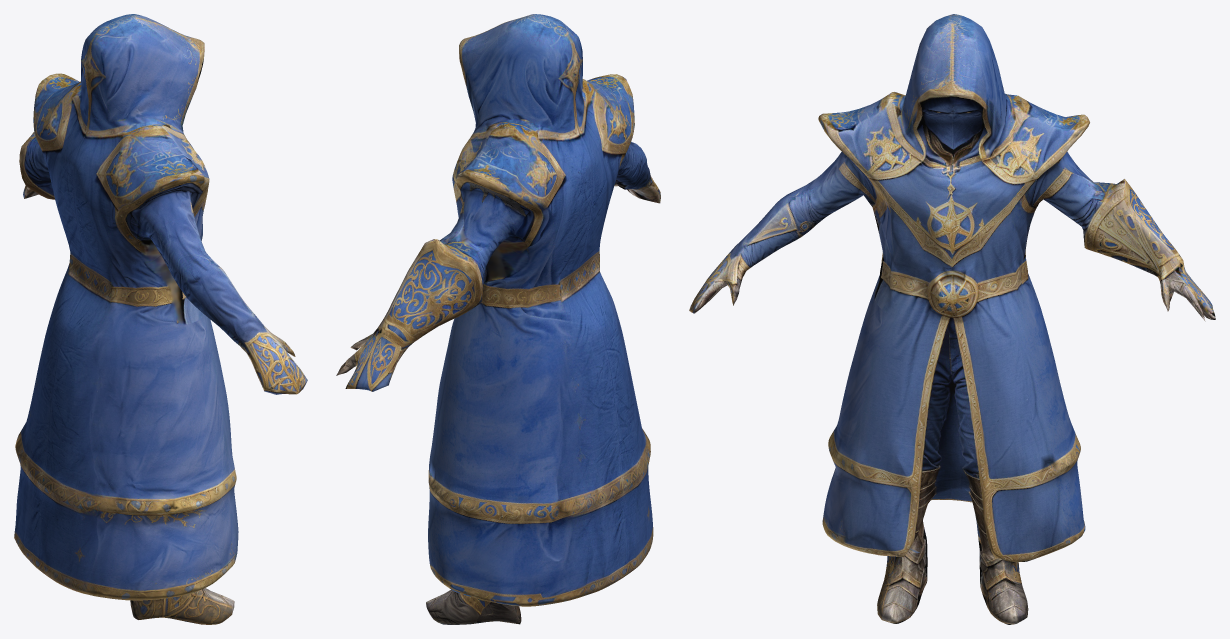
The model's file is mage1.glb.
3 views of the same model, side by side, from view 1: azimuth 30°, elevation 25°; view 2: azimuth 150°, elevation 25°; view 3: azimuth 270°, elevation 25° (orthographic). The views are drawn at different scales.
Size of the model in its own units: 0.3583 by 1.2 by 0.9919.
Materials: 1 (1 with a texture image).
